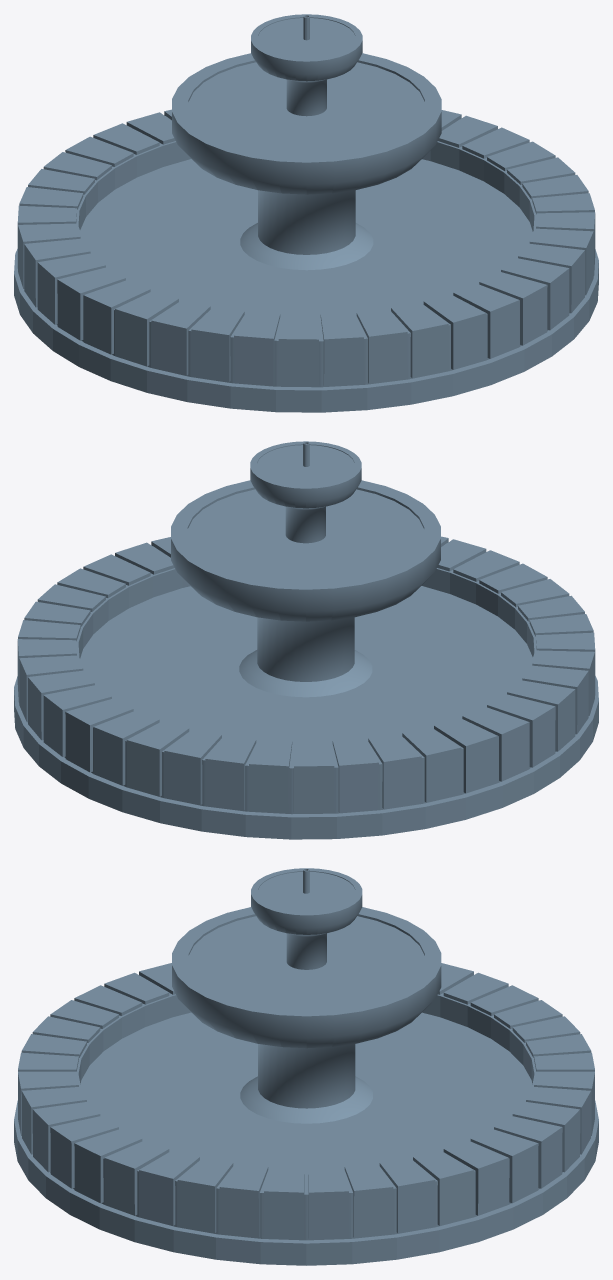
File: Font.fbx
3 views of the same model, one above another, from view 1: azimuth 30°, elevation 25°; view 2: azimuth 150°, elevation 25°; view 3: azimuth 270°, elevation 25° (orthographic).
Visible parts, largest first — view 1: Font; view 2: Font; view 3: Font.
Boxes of the visible parts, x1,y1,x2,y2 form: Font: [14, 14, 598, 412]; Font: [14, 441, 598, 839]; Font: [14, 868, 598, 1265].
Size of the model in its own units: 280 by 144 by 280.
